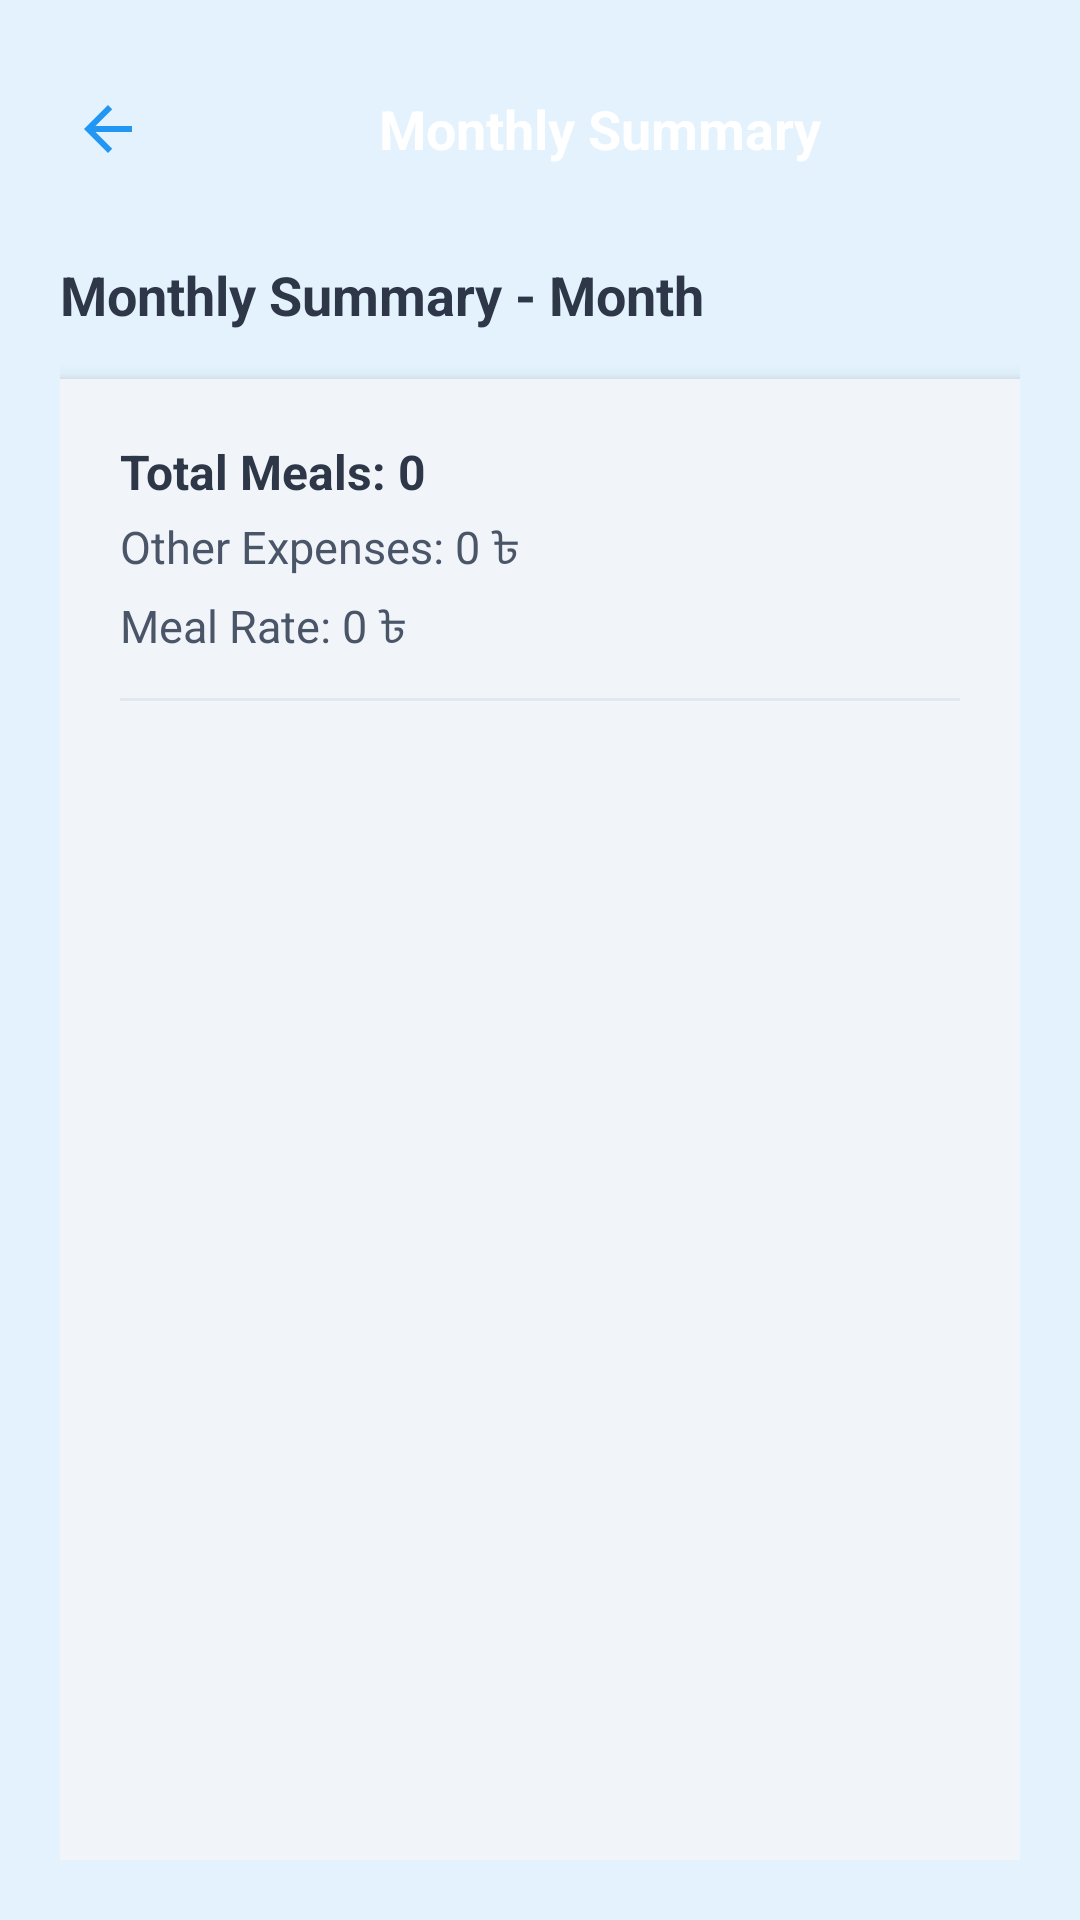

Icons on this 1080 x 1920 Android screen, each with its box as (left=x1, top=y1, right=x2, bottom=y2):
arrow back: (left=84, top=105, right=132, bottom=153)
